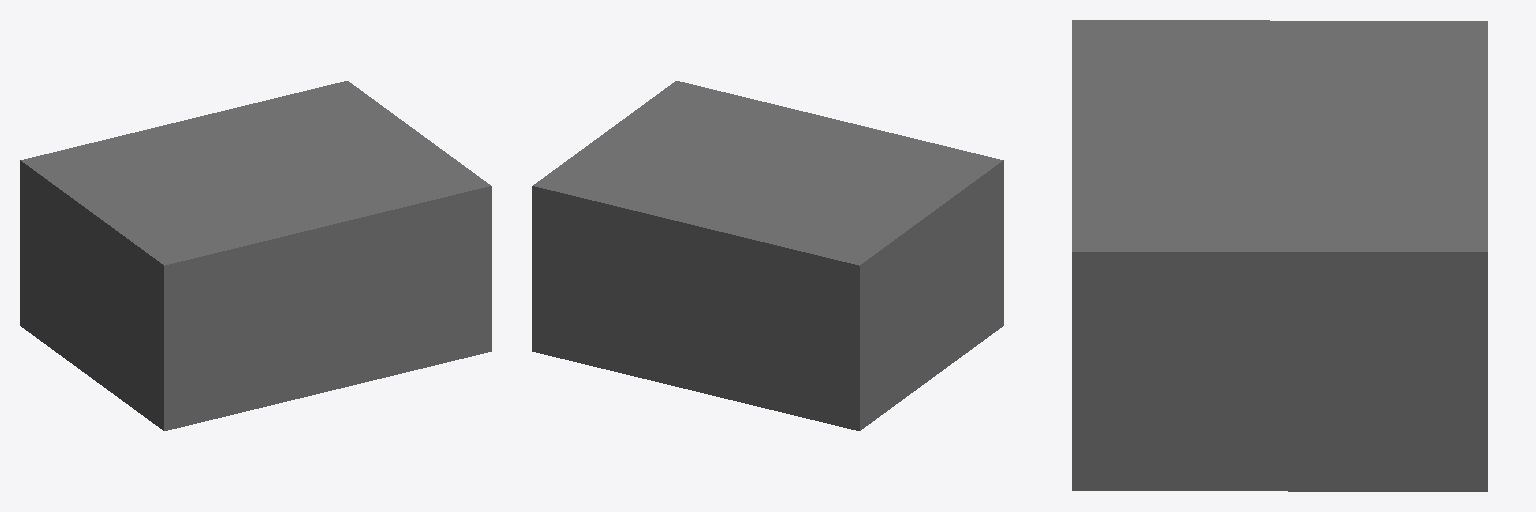
The robot description file, URDF, robot "brick_bounce_x_0-5":
<?xml version="1.0"?>
<robot name="brick_bounce_x_0-5">
  <link name="base">
    <visual>
      <geometry>
        <mesh filename="brick_bounce_x_0-5.obj" scale="1 1 1"/>
      </geometry>
      <material name="gray">
        <color rgba="0.5 0.5 0.5 1.0"/>
      </material>
    </visual>
    <collision>
      <geometry>
        <mesh filename="brick_bounce_x_0-5.obj" scale="1 1 1"/>
      </geometry>
    </collision>
    <inertial>
      <mass value="1.000"/>
      <inertia
          ixx="0.006309" ixy="0.000000" ixz="0.000000"
          iyy="0.009554" iyz="0.000000"
          izz="0.012232"/>
      <origin xyz="0.000091 0.122414 0.177073" rpy="0 0 0"/>
    </inertial>
  </link>
</robot>

--- Render facts (derived) ---
Views: 3 orthographic renders of the robot side by side, from view 1: azimuth 30°, elevation 25°; view 2: azimuth 150°, elevation 25°; view 3: azimuth 270°, elevation 25°.
Model brick_bounce_x_0-5 with 1 links and 0 joints (none), rooted at base, posed every joint at zero.
Links seen in each view (by area): view 1: base; view 2: base; view 3: base.
Link boxes in pixels (bbox=[...]): base: bbox=[20, 81, 491, 430]; base: bbox=[532, 81, 1003, 430]; base: bbox=[1072, 20, 1487, 491].
Bounding box of the posed robot: 0.3047 × 0.2322 × 0.1476 m (x, y, z).
Meshes: 1 distinct files referenced, 1 mesh visuals loaded (1 OBJ).
